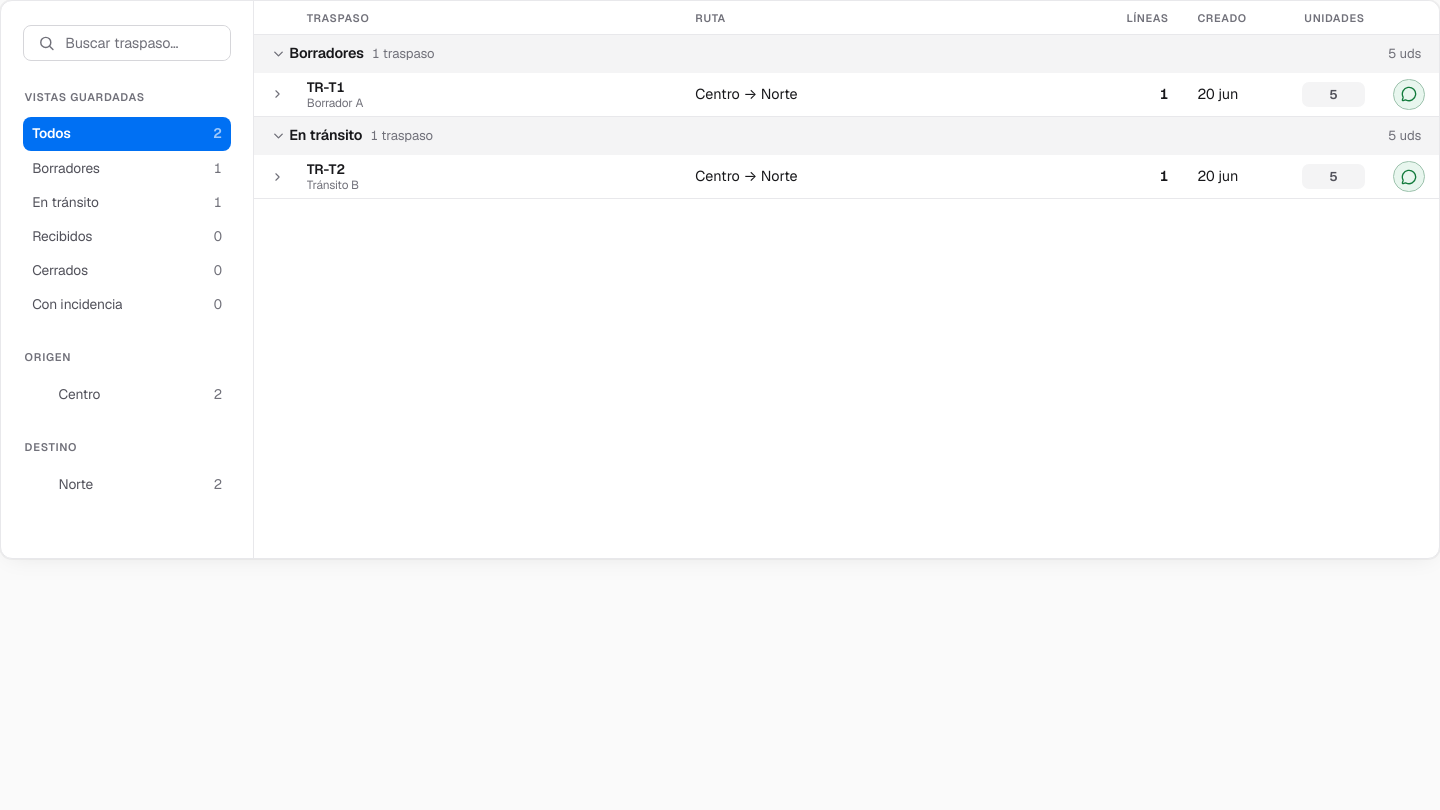
Test: TransfersSection v2 — grupos, detalle en línea y ciclo de vida › filtra por la vista de estado seleccionada
Expected: the text "Borrador A" is shown, left=307, top=95, right=363, bottom=110
Expected: the number of rows with test id "transfer-row" is 2, left=254, top=73, right=1439, bottom=117; left=254, top=155, right=1439, bottom=199
Step 1. Click the button with test id "transfers-view-sent" → (127, 202), box left=23, top=185, right=231, bottom=219
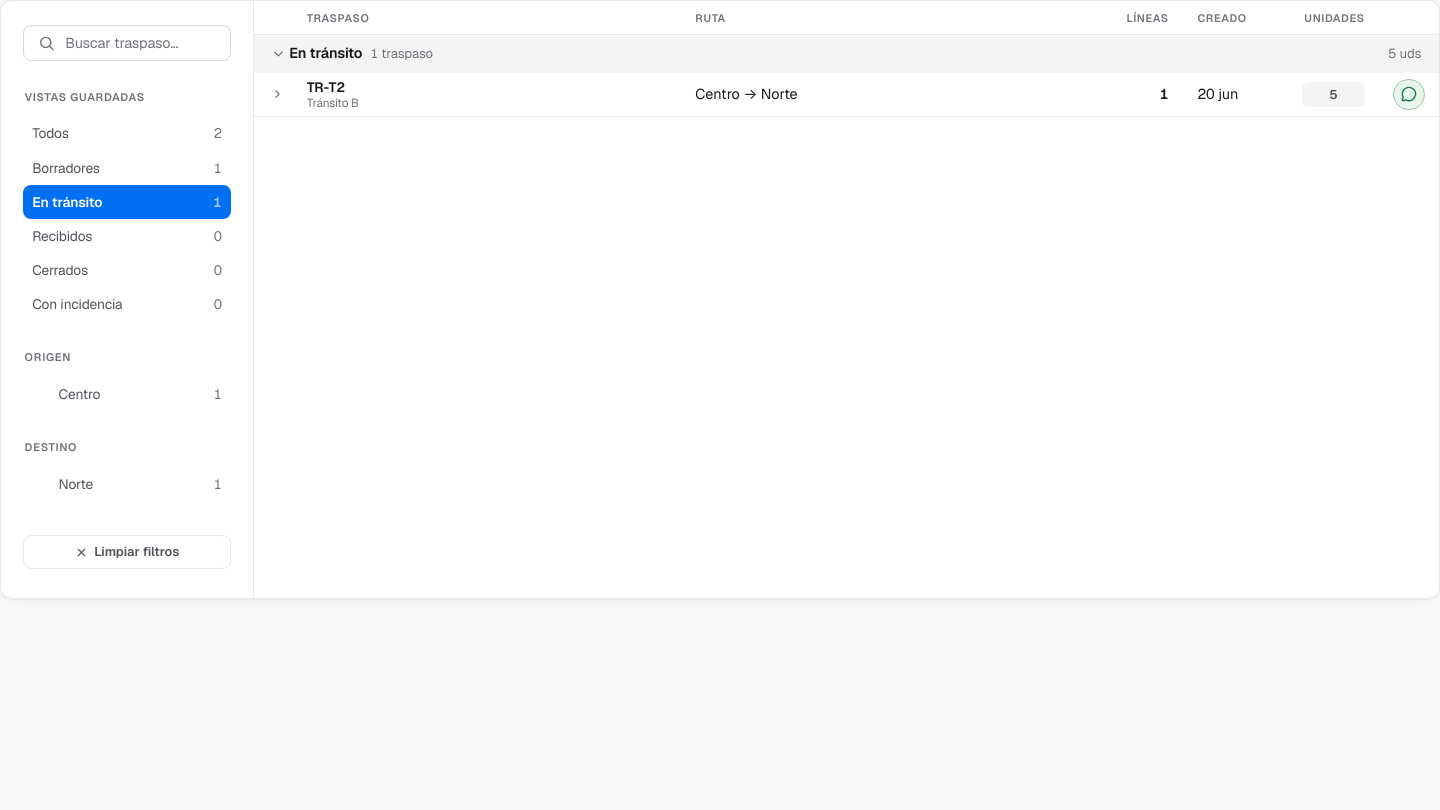
Expected: the text "Tránsito B" is shown, left=307, top=95, right=359, bottom=110
Now the number of rows with test id "transfer-row" is 1, box left=254, top=73, right=1439, bottom=117
Now the text "Borrador A" is gone
